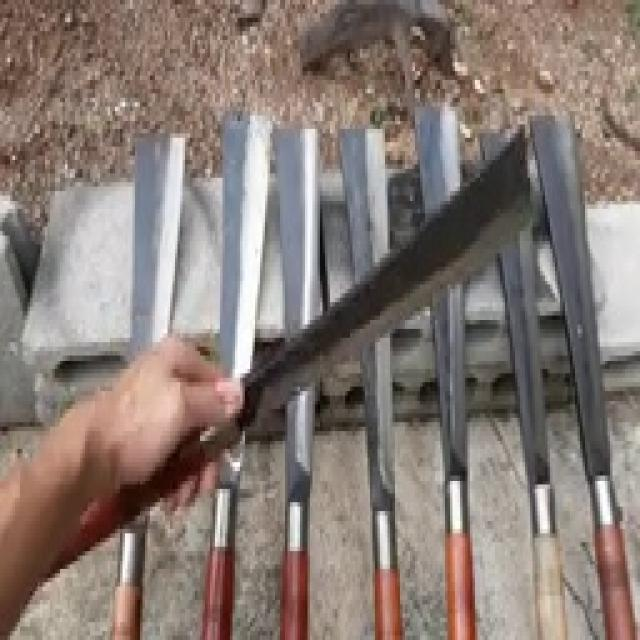eto: (28, 128, 535, 585)
